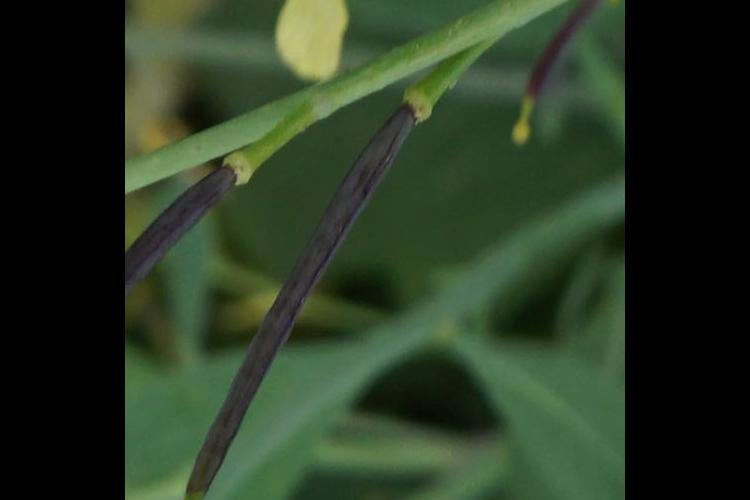pod: (171, 78, 444, 500), (499, 1, 614, 162), (130, 152, 249, 279)
yellow: (217, 1, 499, 47)
